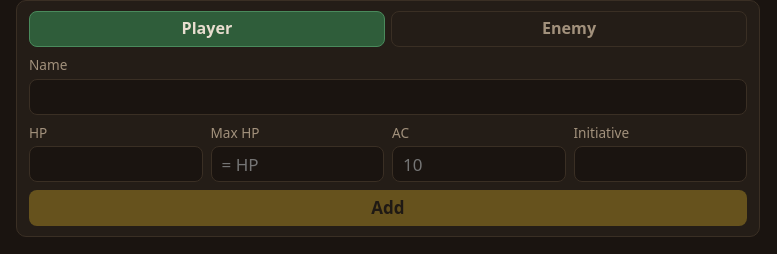
Test case: AddCreatureForm initiative roll › rolls an enemy initiative from the die plus its bonus
The width and height of the screenshot is (777, 254).
Step 1. Click the radio button labelled "Enemy" → (569, 29), box left=391, top=11, right=747, bottom=47
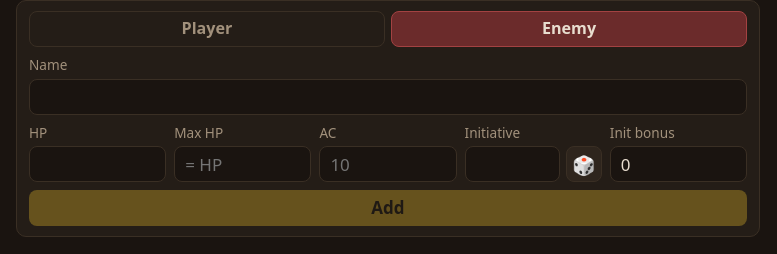
Step 2. Replace the text in the number field labelled "Init bonus" with "2" → (678, 164), box left=610, top=146, right=747, bottom=182
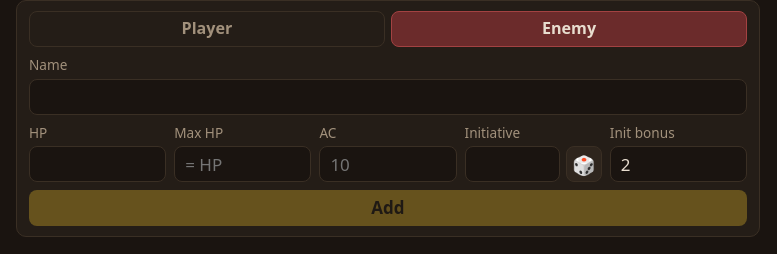
Step 3. Click the button named "roll" → (584, 164), box left=566, top=146, right=602, bottom=182
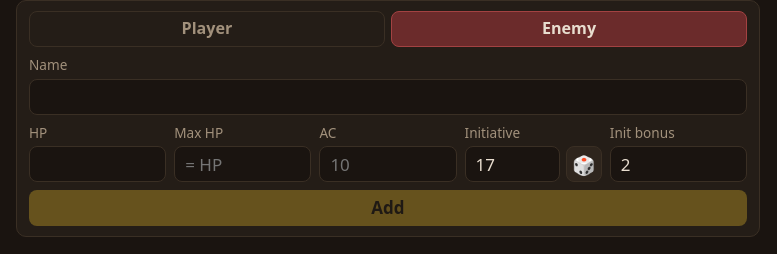
Result: the number field labelled "Initiative" holds "17" at left=465, top=146, right=560, bottom=182
